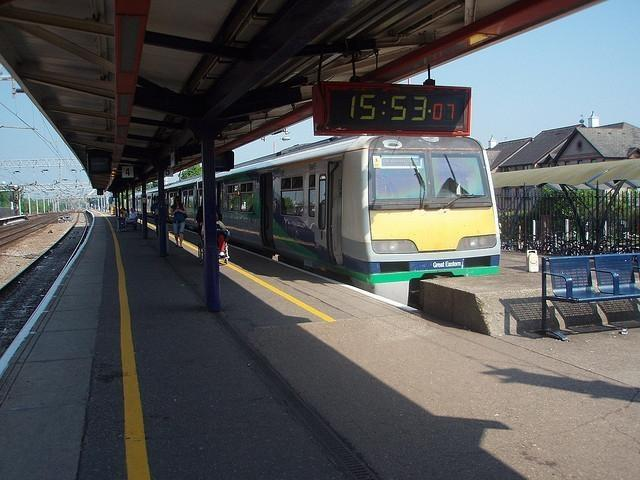bicycle: (541, 239, 578, 258), (616, 237, 636, 254), (573, 244, 585, 256)
